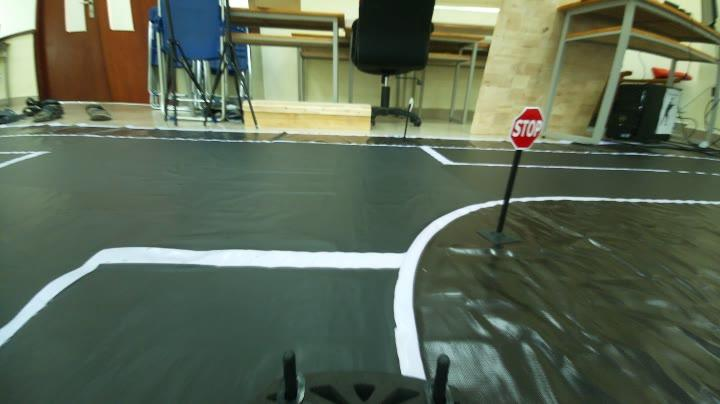stop: (507, 106, 552, 154)
